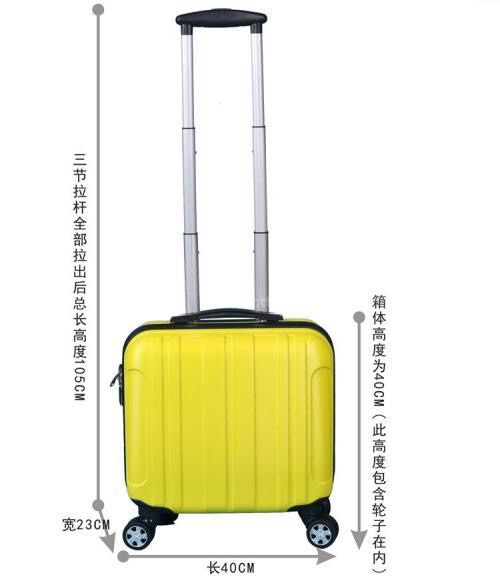luggage: (112, 7, 341, 552)
